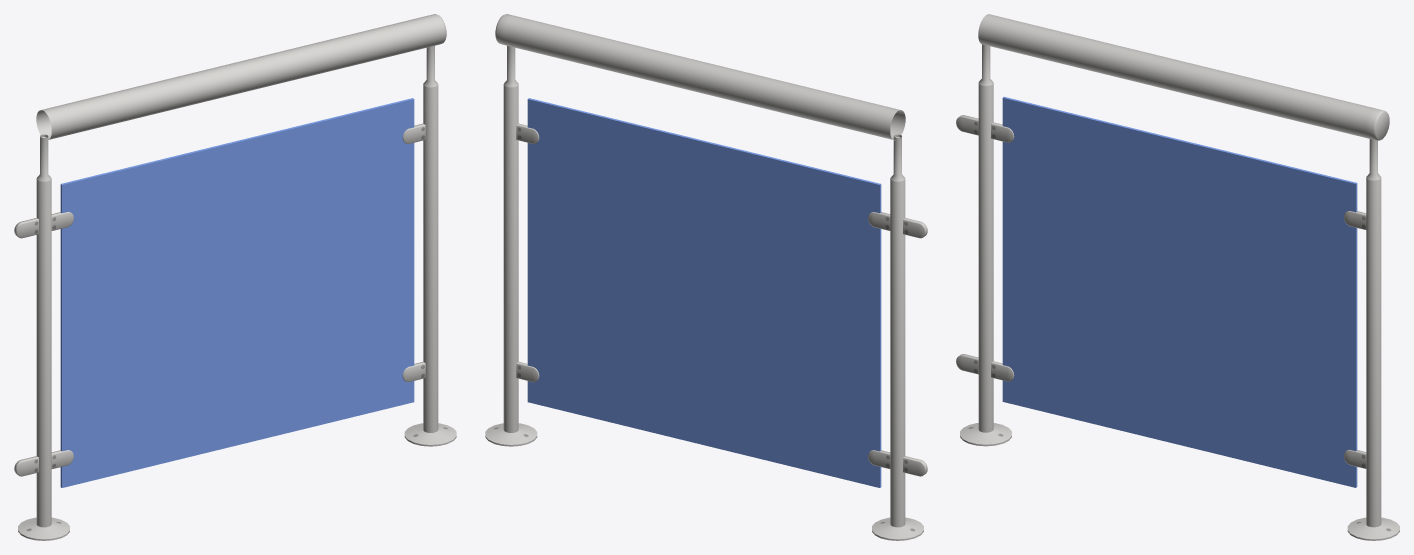
File: Barrier01_7.FBX
3 views of the same model, side by side, from view 1: azimuth 30°, elevation 25°; view 2: azimuth 150°, elevation 25°; view 3: azimuth 330°, elevation 25° (orthographic).
Parts seen in each view (by area): view 1: Glass, Metal; view 2: Glass, Metal; view 3: Glass, Metal.
Boxes of the visible parts, box(x1,y1,x2,y2) form: Glass: box(60, 98, 414, 487); Metal: box(14, 14, 456, 540); Glass: box(527, 98, 881, 487); Metal: box(485, 14, 927, 540); Glass: box(1002, 96, 1357, 487); Metal: box(956, 14, 1399, 540).
Size of the model in its own units: 113 by 103 by 11.66.
